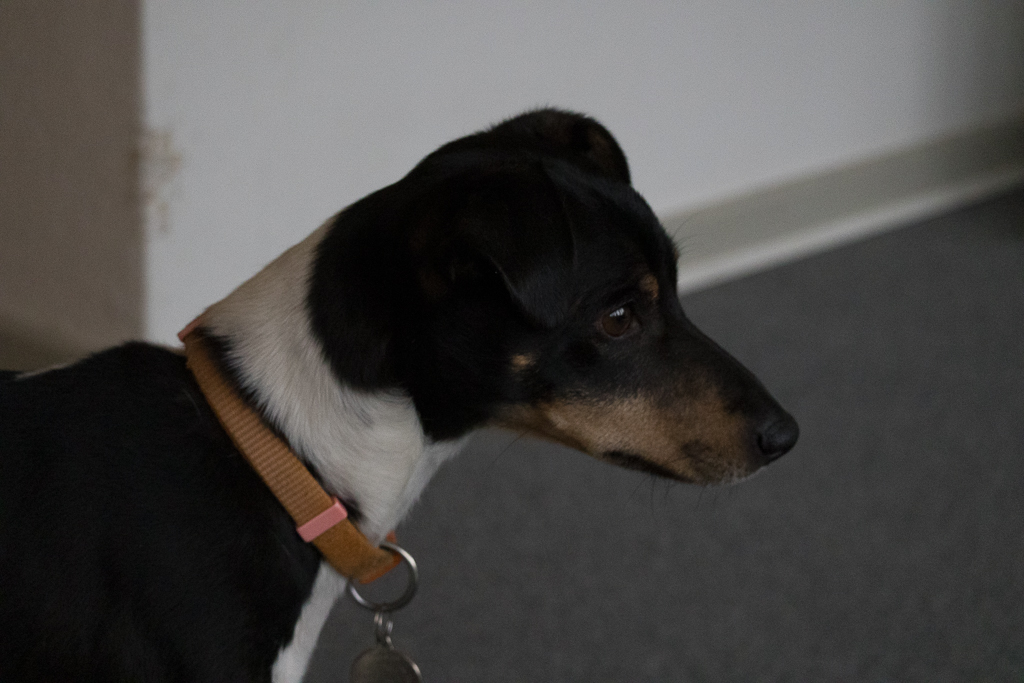Dog: (0, 102, 807, 683)
